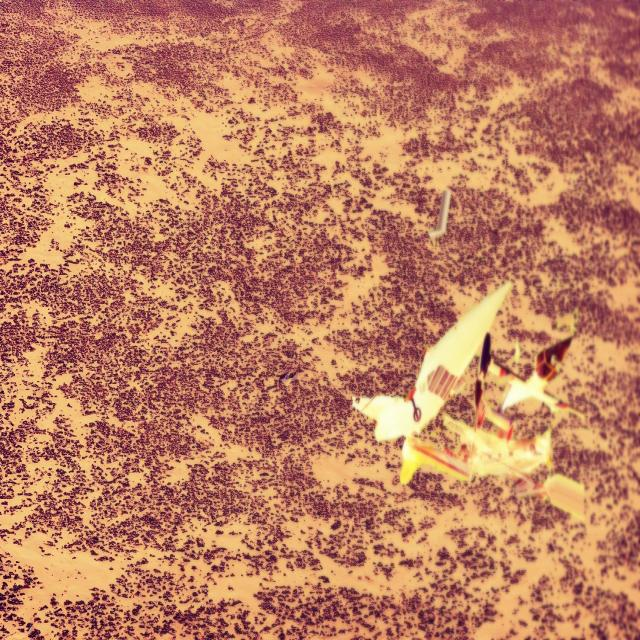airplane: (352, 279, 584, 519), (486, 333, 584, 423)
